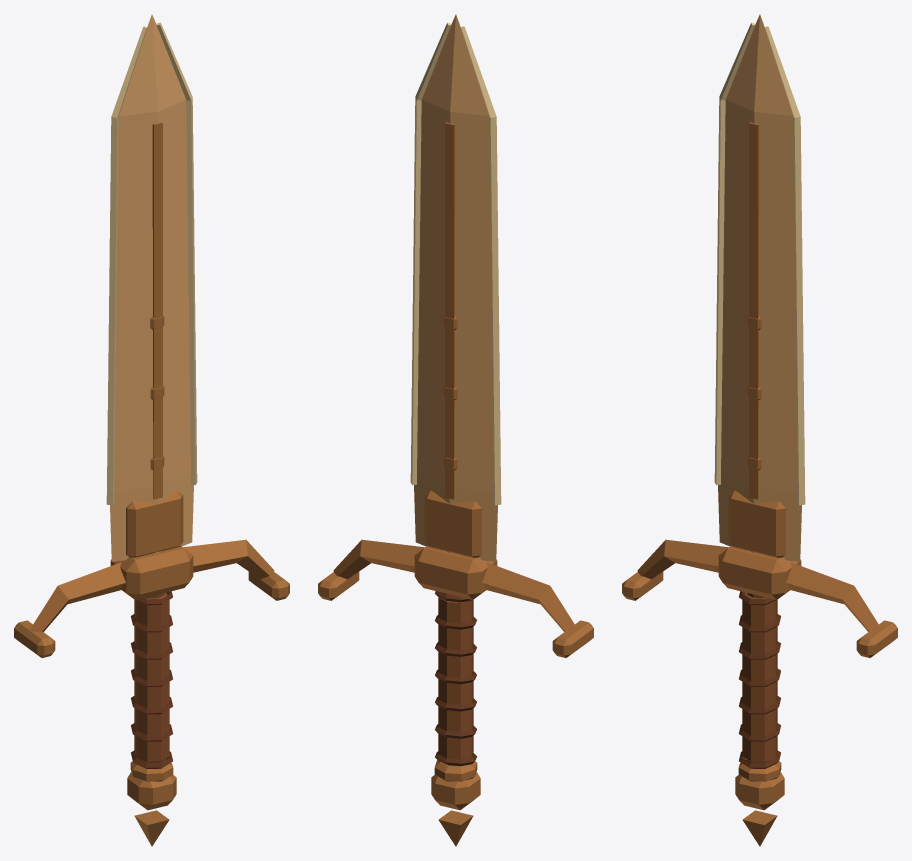
Rendered from WoodGreatsword.fbx.
The picture shows the model from 3 angles, left to right: view 1: azimuth 30°, elevation 25°; view 2: azimuth 150°, elevation 25°; view 3: azimuth 330°, elevation 25°; orthographic projection.
Visible parts, largest first — view 1: WoodGreatsword; view 2: WoodGreatsword; view 3: WoodGreatsword.
Part boxes in pixels (x1=…): WoodGreatsword: x1=14, y1=14, x2=289, y2=846; WoodGreatsword: x1=318, y1=14, x2=593, y2=846; WoodGreatsword: x1=622, y1=14, x2=897, y2=846.
Size of the model in its own units: 2.26 by 7.12 by 0.44.
1 material, 1 textured.
